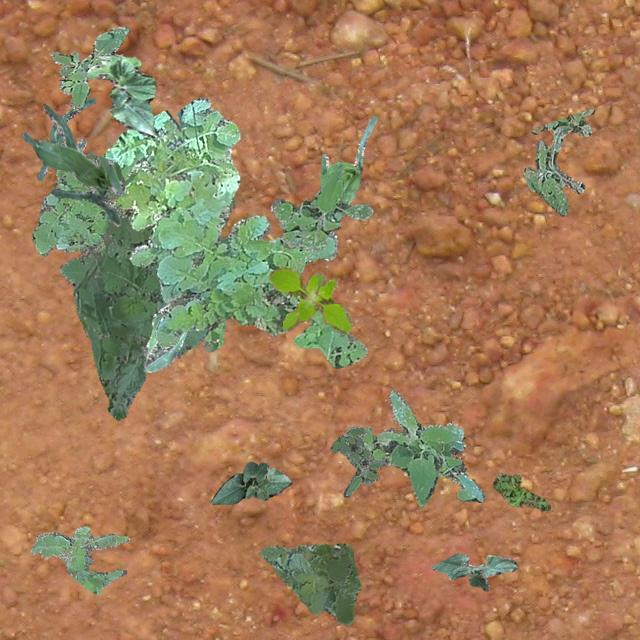crop: (20, 103, 124, 225), (318, 116, 376, 220), (86, 52, 156, 136), (36, 96, 94, 180), (210, 461, 290, 504), (429, 552, 516, 590), (142, 304, 185, 372)
weed: (101, 96, 366, 366), (60, 168, 234, 420), (360, 390, 484, 504), (31, 150, 120, 256), (269, 162, 372, 250), (258, 542, 360, 624), (522, 106, 592, 215), (30, 526, 128, 594), (50, 26, 128, 108), (268, 266, 352, 334), (330, 426, 388, 496), (492, 472, 550, 511)
